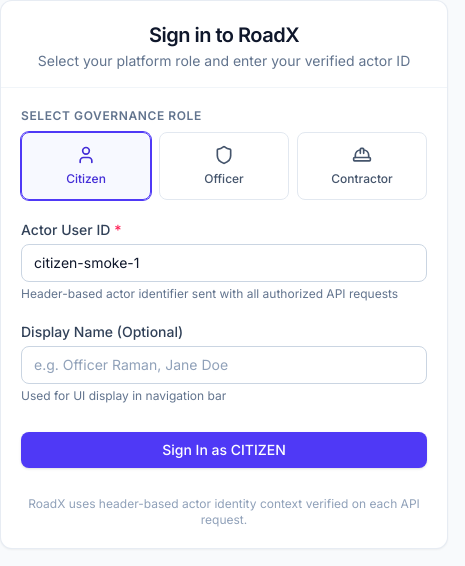
Test: LoginForm Component › switches role preset properly when clicking role button
Click the radio button labelled "Officer".
click(224, 166)  # box [159, 132, 289, 200]
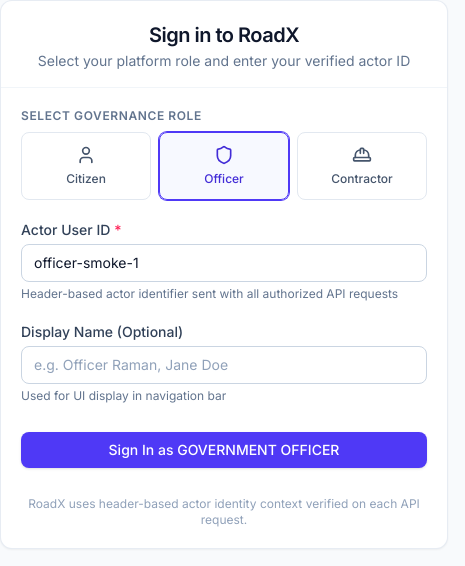
Check: the field labelled "Actor User ID*" holds "officer-smoke-1", box [21, 244, 427, 282]
Check: the button "Sign In as GOVERNMENT OFFICER" is shown, box [21, 432, 427, 468]
